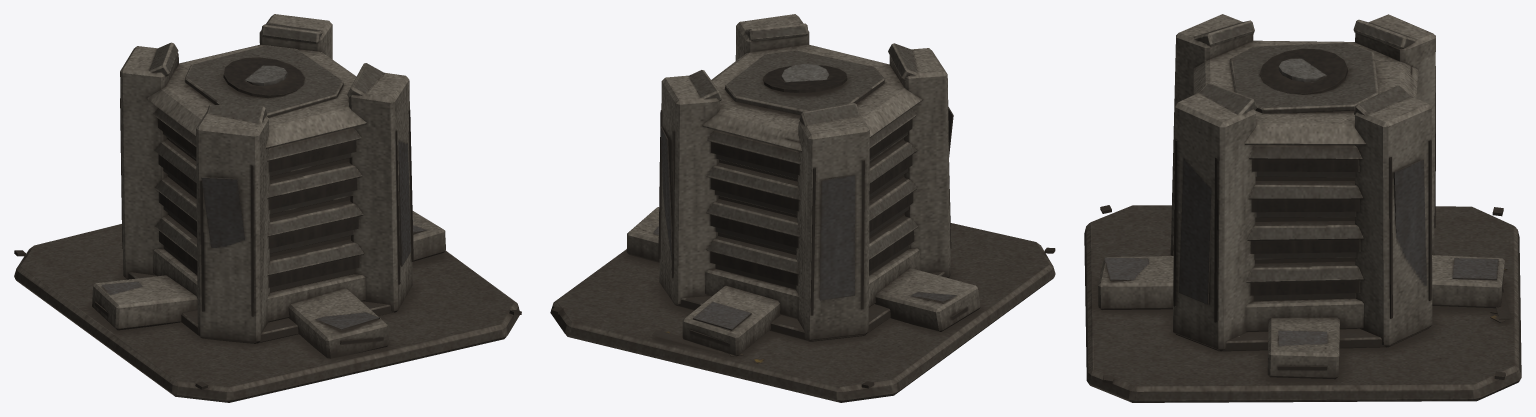
File: ord_capacitor_wreck.fbx
3 renders of one model, left to right at view 1: azimuth 30°, elevation 25°; view 2: azimuth 150°, elevation 25°; view 3: azimuth 270°, elevation 25°, orthographic. The views are drawn at different scales.
Parts seen in each view (by area): view 1: base_bar; view 2: base_bar; view 3: base_bar.
Boxes of the visible parts, x1=… form: base_bar: x1=14, y1=14, x2=521, y2=402; base_bar: x1=550, y1=14, x2=1055, y2=402; base_bar: x1=1084, y1=14, x2=1521, y2=402.
Size of the model in its own units: 1551 by 1197 by 1569.
2 materials, 2 textured.
